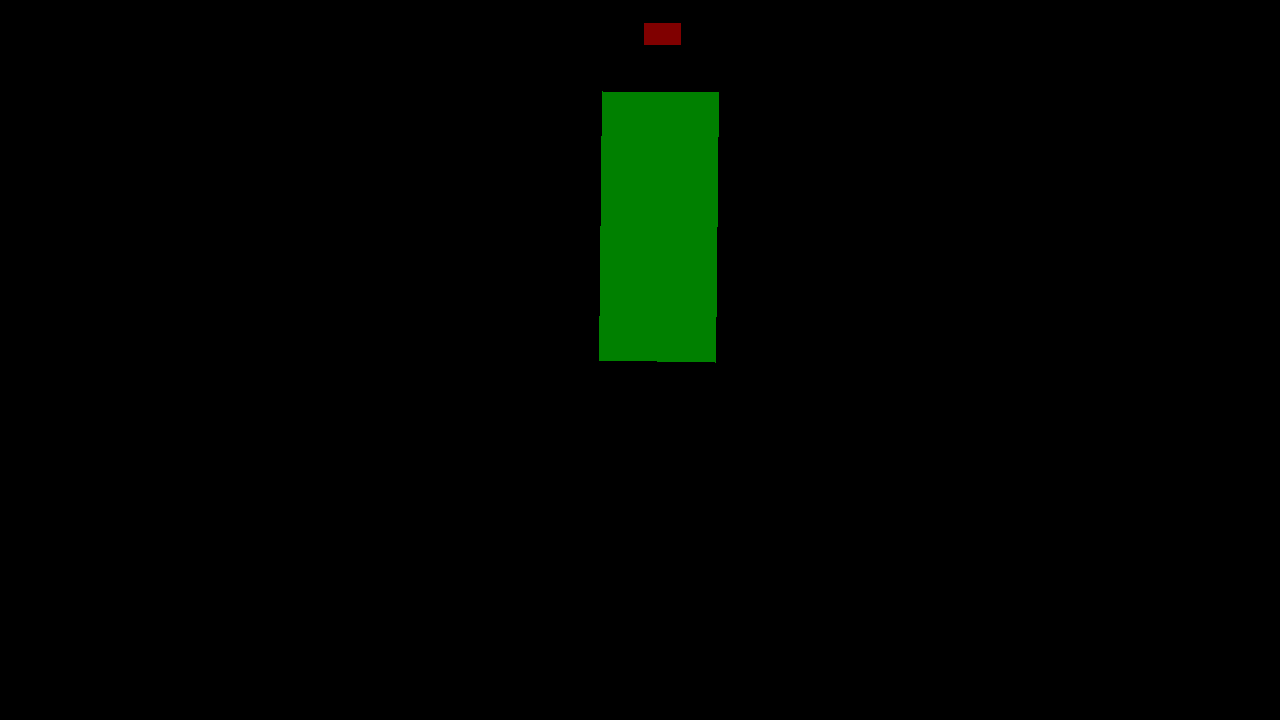door: (599, 91, 718, 362)
sign: (644, 23, 680, 44), (643, 162, 675, 180)
